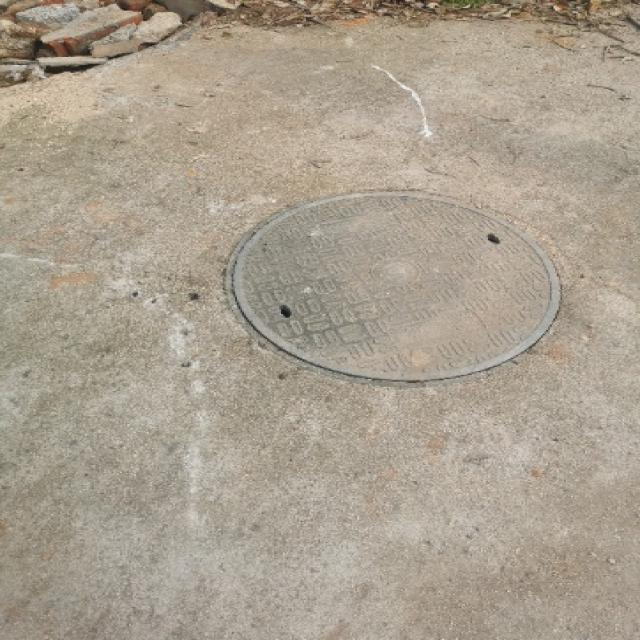Good: (215, 184, 582, 398)
